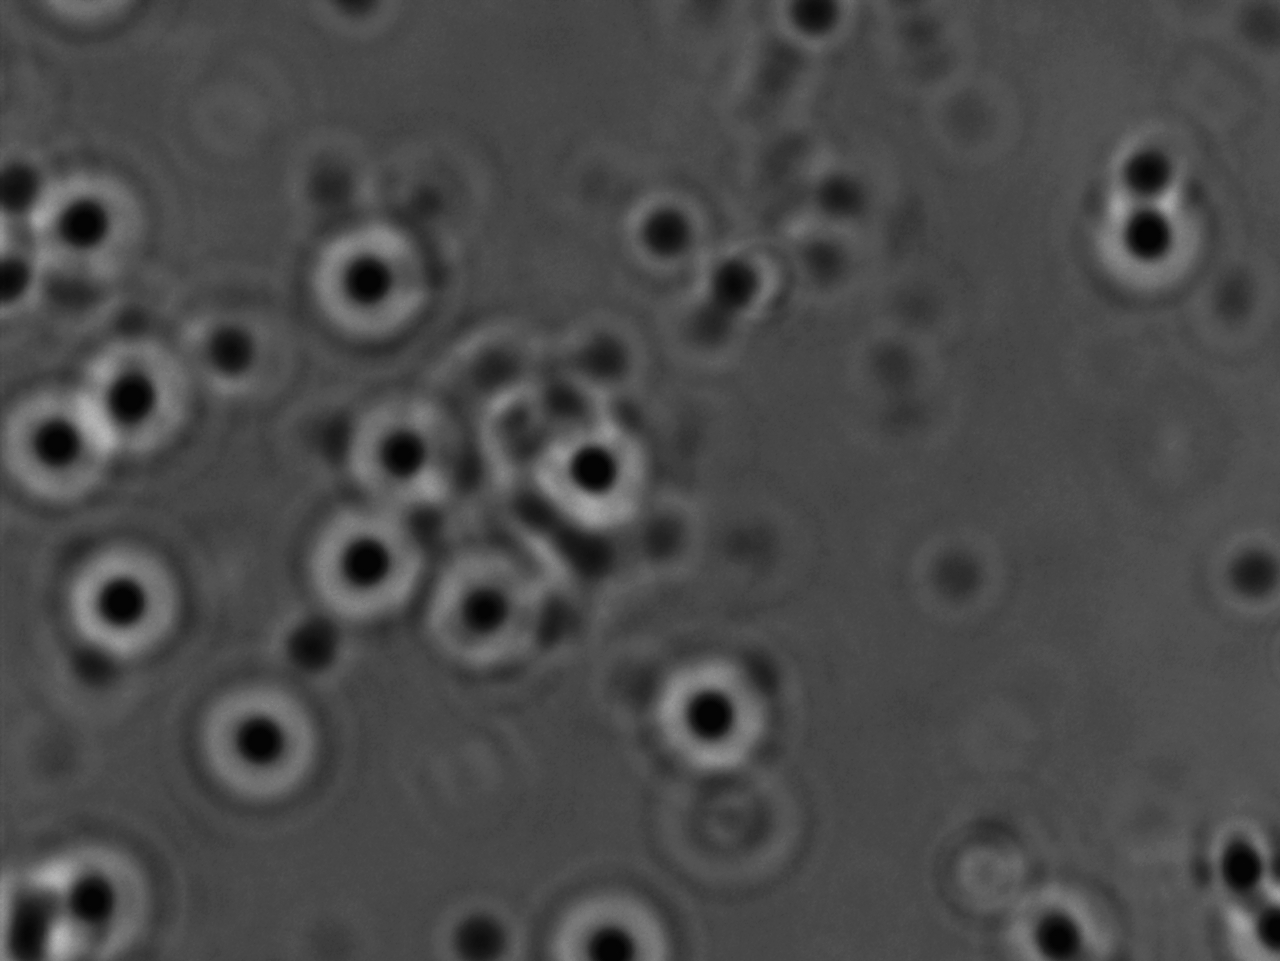depth:-32: (179, 669, 346, 818), (637, 642, 792, 796), (288, 213, 438, 355), (1085, 181, 1242, 317), (44, 538, 198, 674), (335, 380, 481, 521), (422, 545, 560, 692), (517, 401, 668, 534), (301, 509, 447, 638), (65, 330, 205, 463), (525, 871, 694, 961), (995, 875, 1126, 961)
